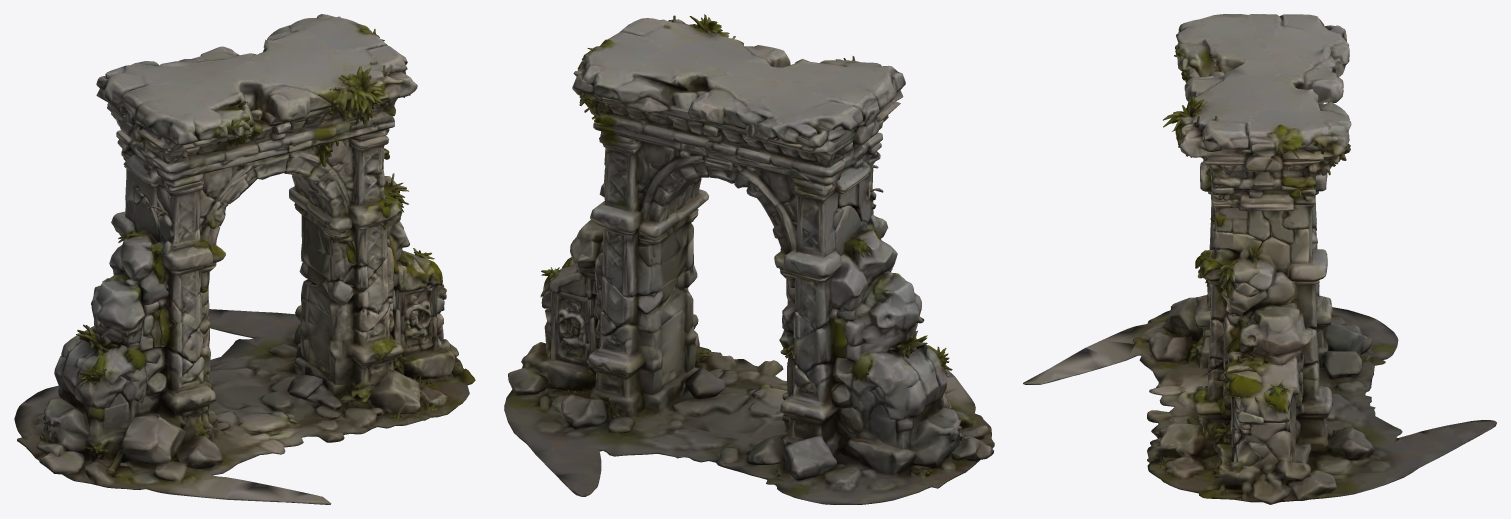
File: ancient-stone-gate.glb
3 views of the same model, side by side, from view 1: azimuth 30°, elevation 25°; view 2: azimuth 150°, elevation 25°; view 3: azimuth 270°, elevation 25° (orthographic). The views are drawn at different scales.
Parts seen in each view (by area): view 1: tripo_node_7554d447_tripo_mat_7554d447_0_21; view 2: tripo_node_7554d447_tripo_mat_7554d447_0_21; view 3: tripo_node_7554d447_tripo_mat_7554d447_0_21.
Boxes of the visible parts, x1,y1,x2,y2 form: tripo_node_7554d447_tripo_mat_7554d447_0_21: [14, 14, 475, 504]; tripo_node_7554d447_tripo_mat_7554d447_0_21: [504, 14, 994, 504]; tripo_node_7554d447_tripo_mat_7554d447_0_21: [1023, 14, 1496, 504].
Bounding box in the file's own units: 0.9794 × 0.7436 × 0.934.
Materials: 1 (1 with a texture image).
